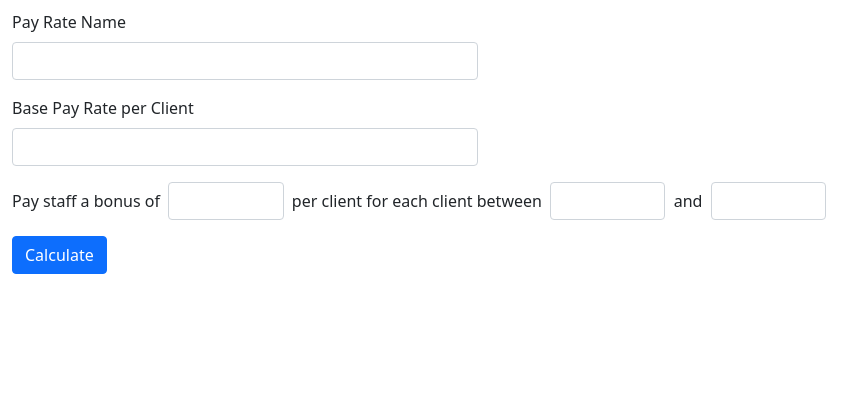
Scenario: CalculationForm › renders calculation results after `calculate` button is clicked
Type "Sample Name" into the field labelled "Pay Rate Name" at x=245, y=61, box [12, 42, 478, 80]
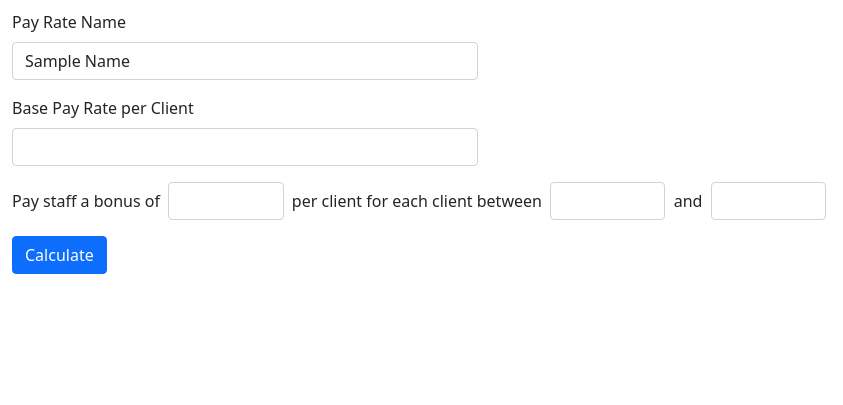
Type "30" into the number field labelled "Base Pay Rate per Client" at x=245, y=147, box [12, 128, 478, 166]
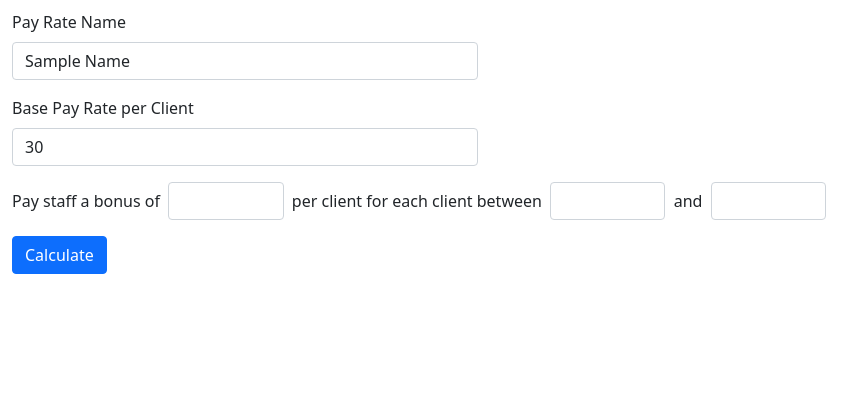
Type "5" into the number field with test id "bonusRate" at x=226, y=201, box [168, 182, 284, 220]
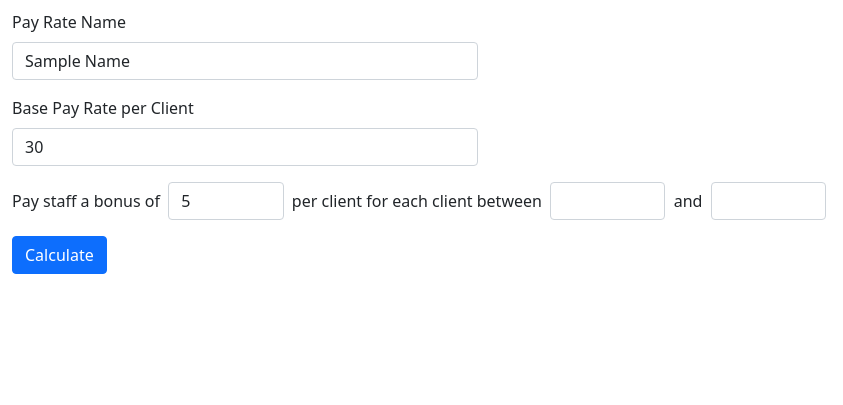
Type "20" into the number field with test id "minClients" at x=608, y=201, box [550, 182, 665, 220]
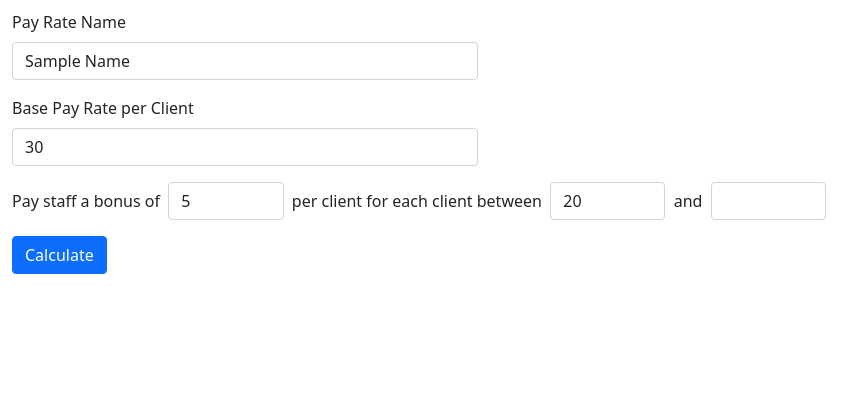
Type "50" into the number field with test id "maxClients" at x=768, y=201, box [711, 182, 826, 220]
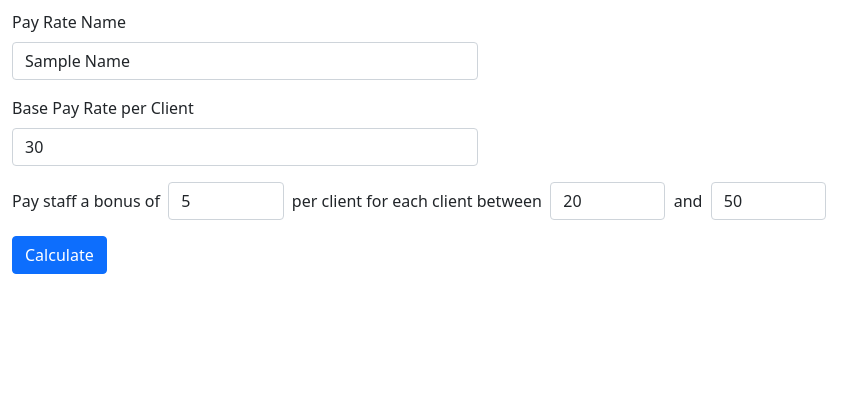
Submit the form from the button, box [12, 236, 107, 274]
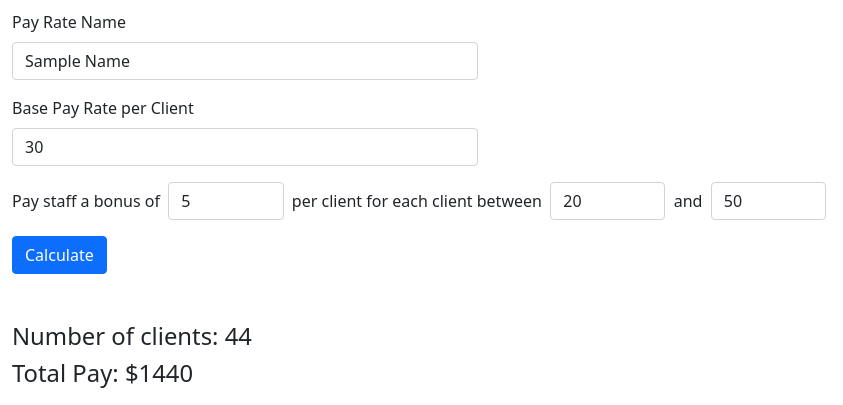
Now the number of elements with test id "results" is 1, box [12, 320, 252, 389]
